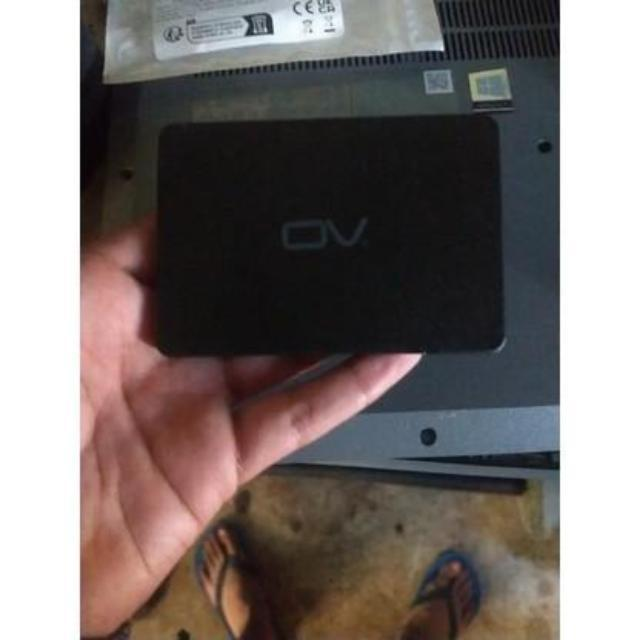DISK: (158, 118, 504, 360)
